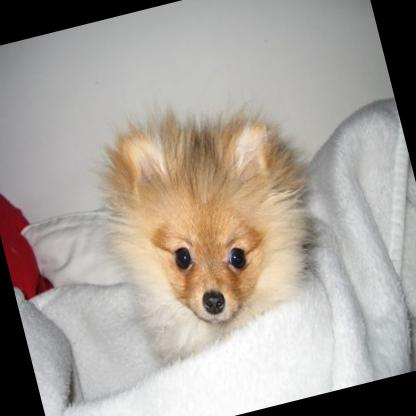Pomeranian: (66, 69, 341, 362)
